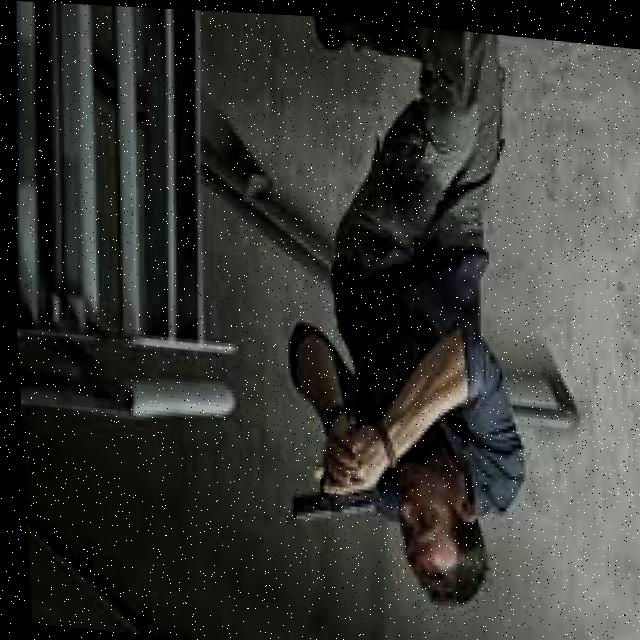pistol: (283, 467, 376, 528)
